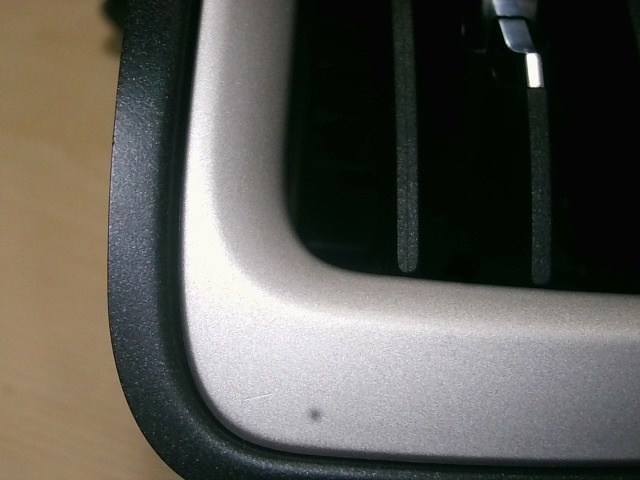NG: (238, 384, 276, 409)
